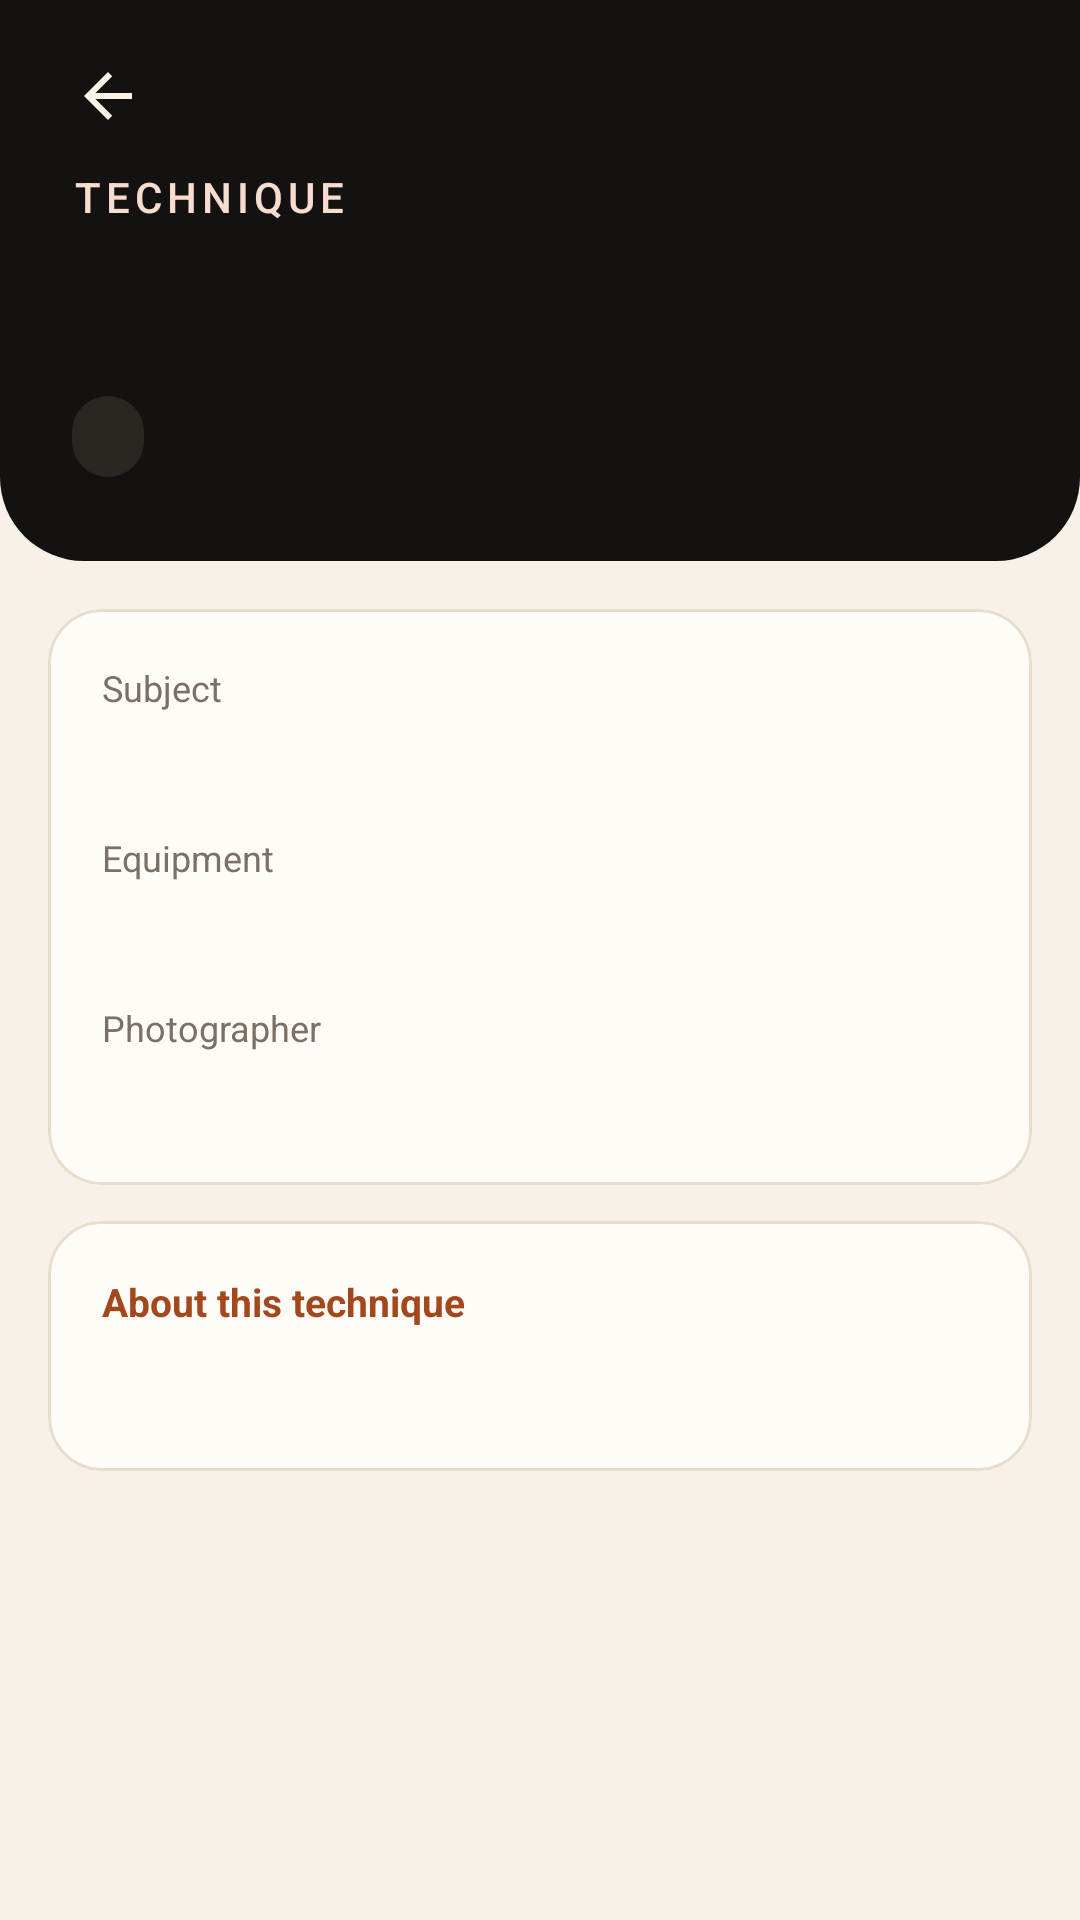

Screen size 1080px x 1920px. Icon name, then its box in pixels as (x1, y1, x2, y2):
Back: (84, 72, 132, 120)
